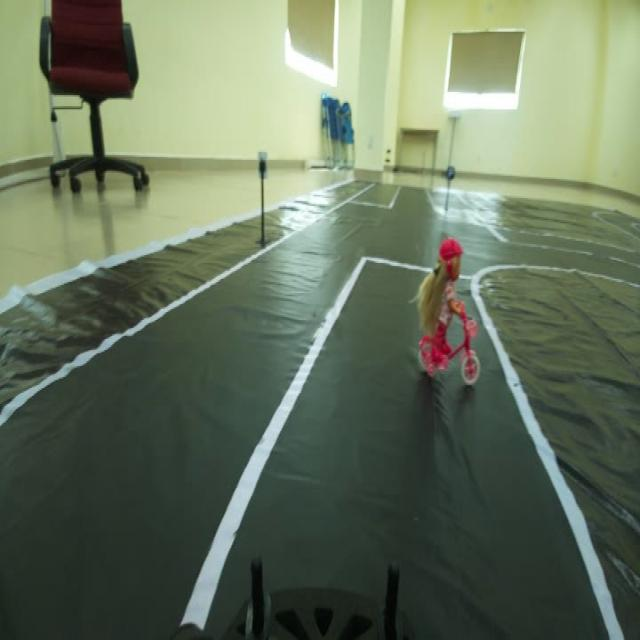pedestrian: (413, 239, 483, 384)
